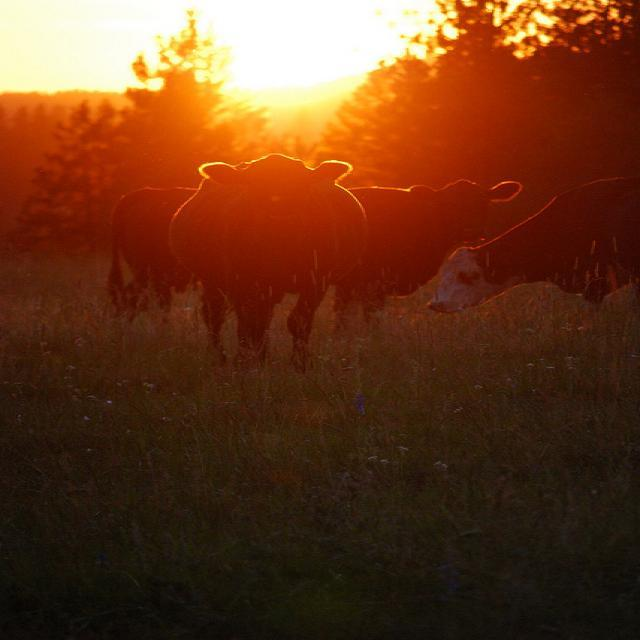cow: (109, 179, 519, 332), (164, 151, 371, 368), (429, 176, 634, 333)
